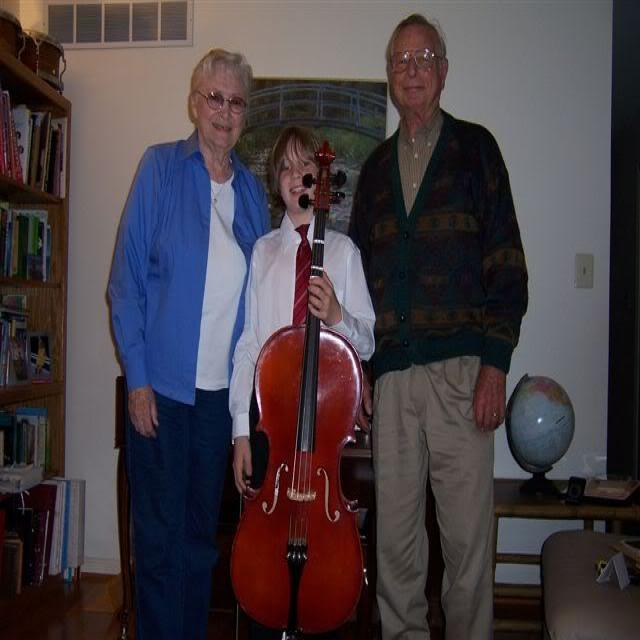cello: (229, 136, 376, 634)
